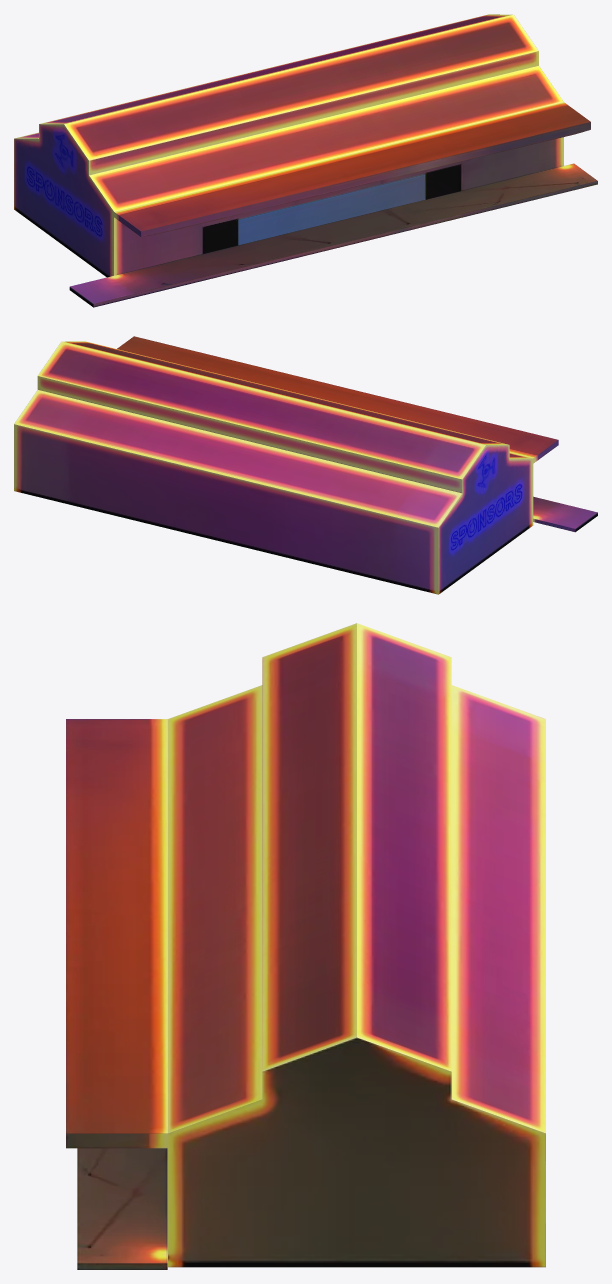
File: MessHall-transformed.glb
The picture shows the model from 3 angles, top to bottom: view 1: azimuth 30°, elevation 25°; view 2: azimuth 150°, elevation 25°; view 3: azimuth 270°, elevation 25°; orthographic projection. The views are drawn at different scales.
Visible parts, largest first — view 1: Cube.031; view 2: Cube.031; view 3: Cube.031.
Part boxes in pixels (box(x1,y1,x2,y2)): Cube.031: box(14, 14, 597, 307); Cube.031: box(14, 336, 597, 594); Cube.031: box(66, 623, 545, 1269).
Bounding box in the file's own units: 690 × 159 × 301.
Materials: 1 (1 with a texture image).
